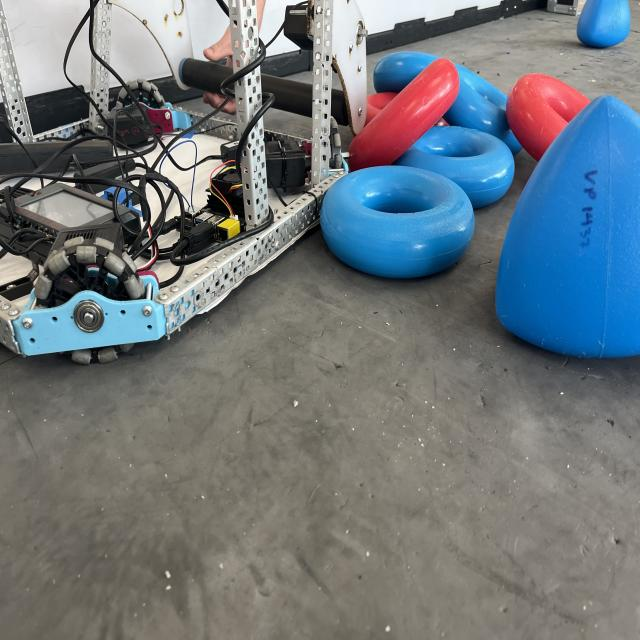Blue-Ring: (320, 167, 475, 278), (394, 127, 515, 208), (445, 63, 522, 155)
Red-Ring: (349, 58, 460, 172), (506, 73, 590, 162)
